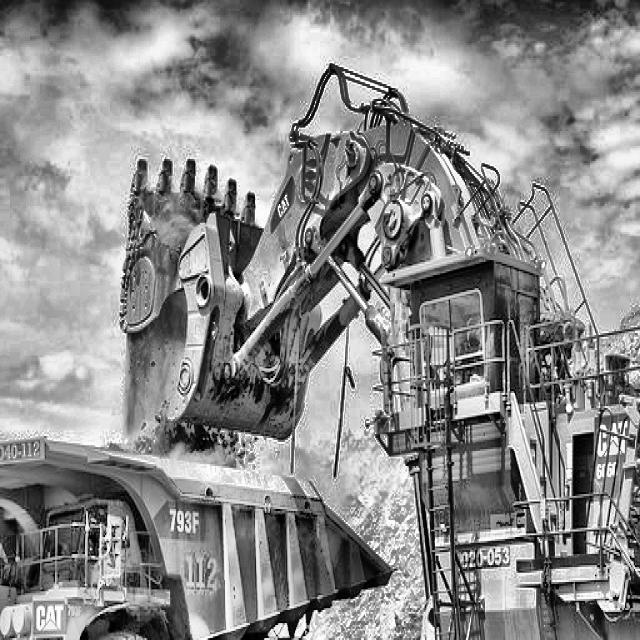dump_truck: (0, 434, 390, 640)
excavator: (119, 82, 640, 640)
